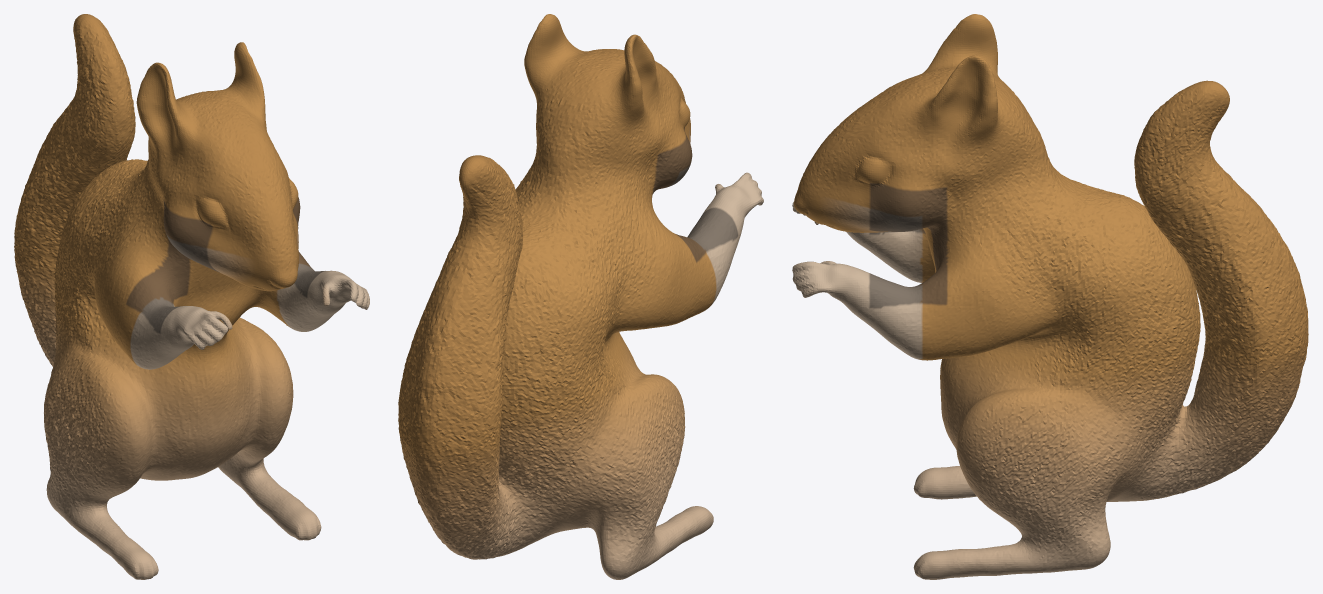
Rendered from squirrel.glb.
The picture shows the model from 3 angles, left to right: view 1: azimuth 30°, elevation 25°; view 2: azimuth 150°, elevation 25°; view 3: azimuth 270°, elevation 25°; orthographic projection. The views are drawn at different scales.
Size of the model in its own units: 1.25 by 2.75 by 2.56.
